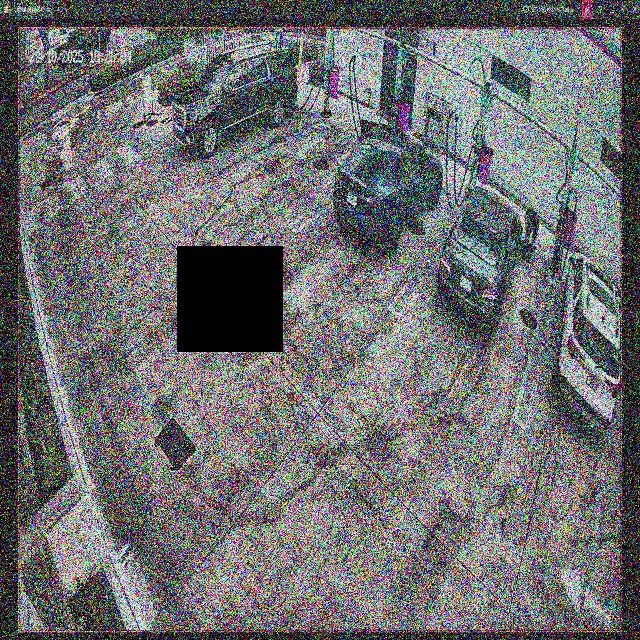Car: (333, 121, 442, 247), (171, 50, 296, 155), (437, 185, 522, 325)
